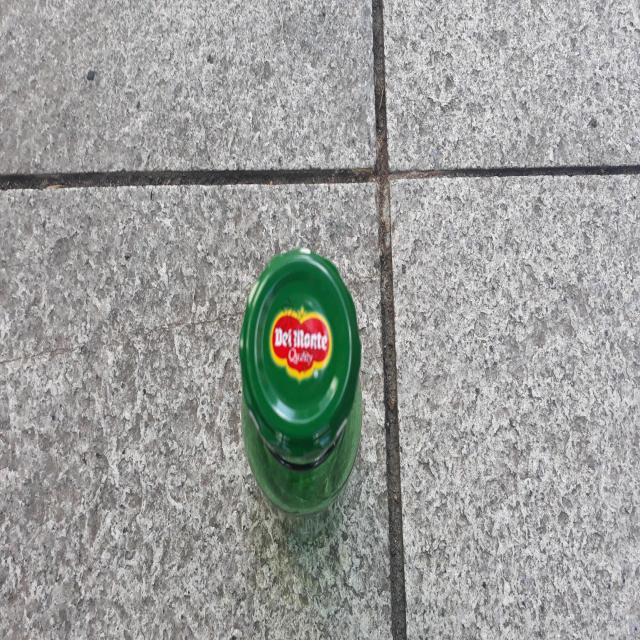glass: (239, 248, 362, 513)
